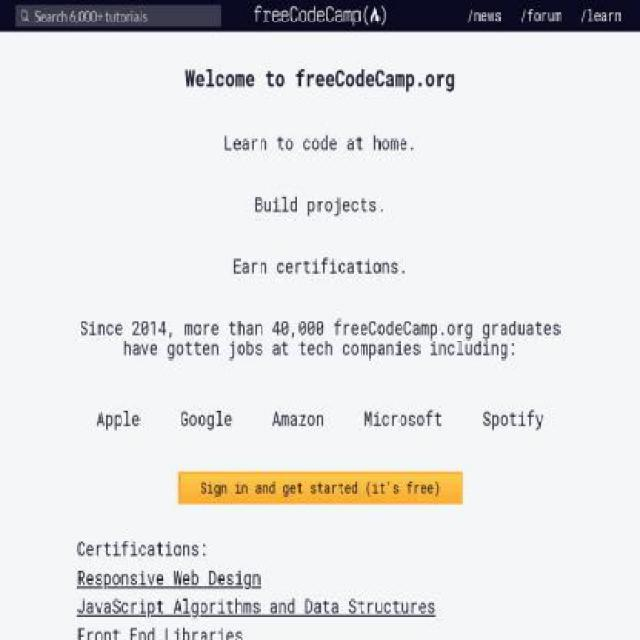button: (76, 566, 555, 588), (76, 595, 555, 617), (178, 470, 462, 504), (76, 626, 556, 640), (253, 0, 386, 32), (510, 0, 571, 32), (570, 0, 631, 32), (457, 0, 511, 32), (18, 7, 32, 25)
field: (16, 5, 221, 27)
